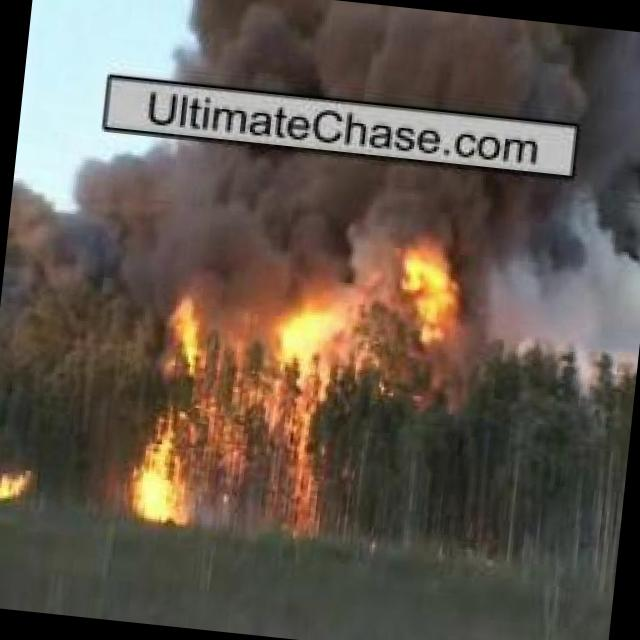Fire: (104, 403, 204, 531), (261, 264, 350, 374), (391, 238, 468, 348), (153, 288, 219, 386), (0, 464, 39, 511)
Smoke: (0, 115, 640, 387), (168, 0, 640, 137)
